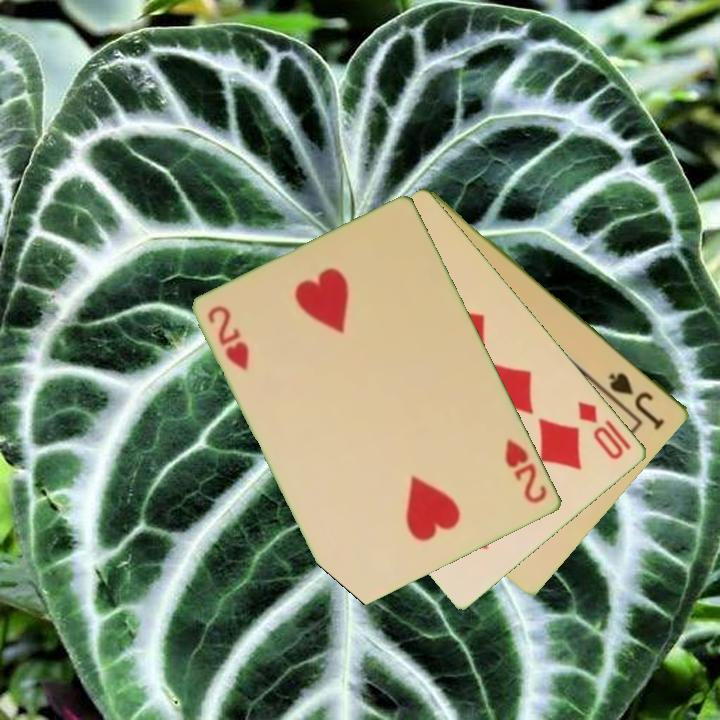10d: (574, 397, 628, 463)
2h: (502, 435, 551, 507), (204, 302, 253, 374)
Js: (605, 369, 668, 431)
